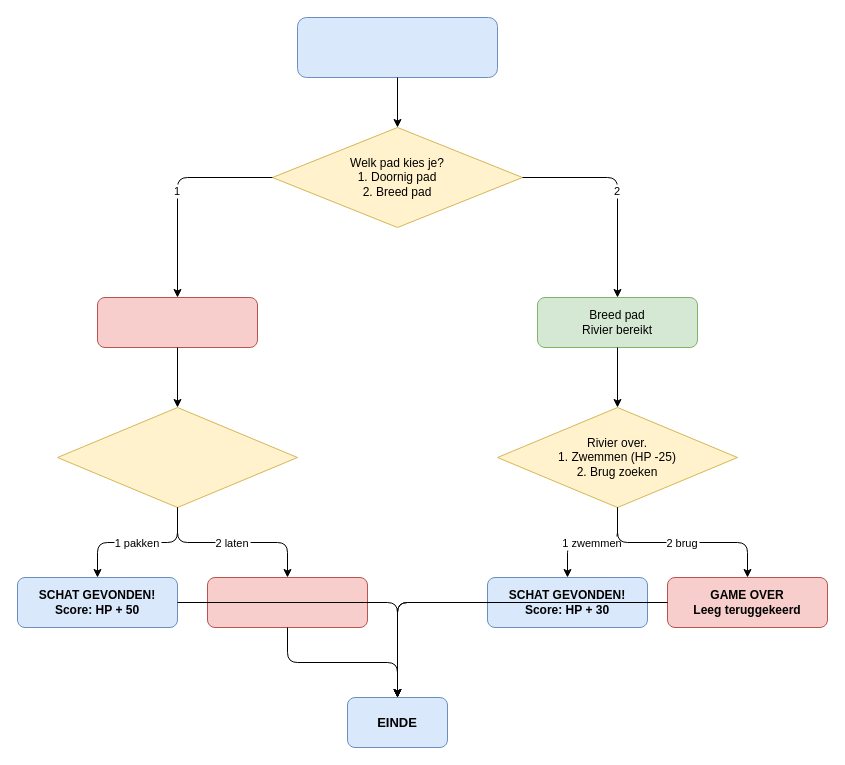
The diagram is 845 pixels wide and 765 high, and some of its shapes have lost their labels. Each missing label, with the centre of its shape:
"Doornig pad HP -15" belongs at pixel 177 322.
"GAME OVER Pikdonker in grot" belongs at pixel 287 602.
"START The Lost Treasure" belongs at pixel 397 47.
"Toorts zien. 1. Pakken 2. Laten liggen" belongs at pixel 177 457.
